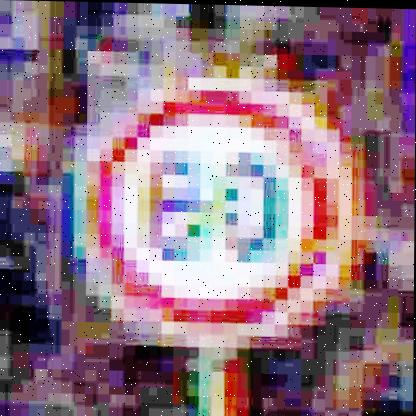Speed Limit -60-: (82, 73, 353, 342)
